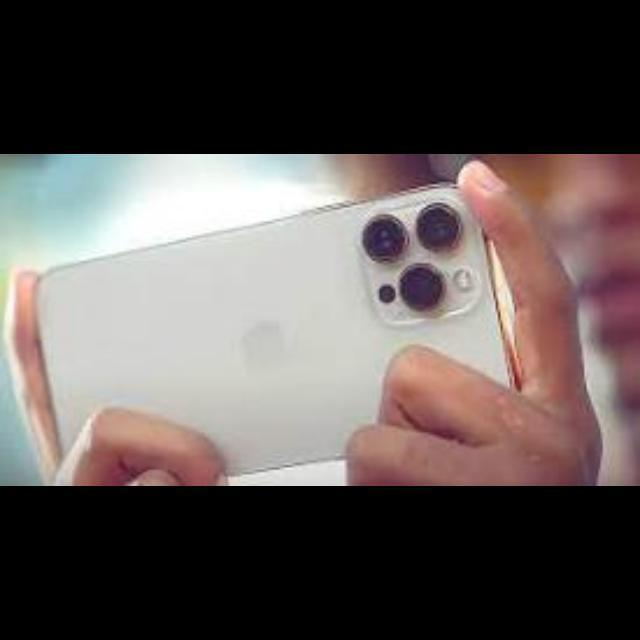PhoneUse: (31, 182, 522, 484)
